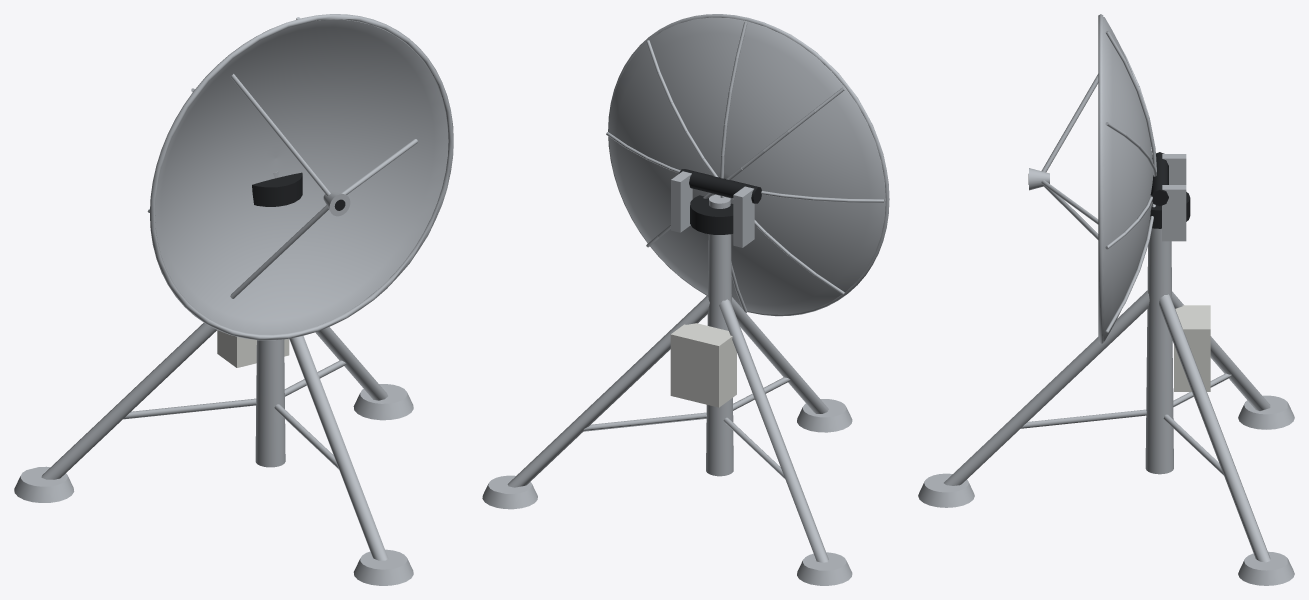
Rendered from antenna_dish.glb.
The picture shows the model from 3 angles, left to right: view 1: azimuth 30°, elevation 25°; view 2: azimuth 150°, elevation 25°; view 3: azimuth 270°, elevation 25°; orthographic projection. The views are drawn at different scales.
Parts seen in each view (by area): view 1: reflector_shell, tripod_leg (×3), dish_rim, tripod_foot (×3), mast, tripod_crossbrace (×2), feed_stay (×2), azimuth_bearing, radio_electronics; view 2: reflector_shell, tripod_leg (×3), radio_electronics, mast, tripod_foot (×3), dish_rim, mount_yoke (×2), azimuth_bearing, elevation_axle, tripod_crossbrace; view 3: reflector_shell, tripod_leg (×3), mast, tripod_foot (×3), radio_electronics, dish_rim, mount_yoke (×2), tripod_crossbrace (×2), elevation_axle, feed_stay.
Boxes of the visible parts, x1=… form: reflector_shell: x1=155, y1=19, x2=448, y2=334; tripod_leg (×3): x1=41, y1=323, x2=388, y2=560; dish_rim: x1=150, y1=14, x2=453, y2=340; tripod_foot (×3): x1=14, y1=384, x2=413, y2=585; mast: x1=255, y1=171, x2=285, y2=467; tripod_crossbrace (×2): x1=123, y1=398, x2=338, y2=469; feed_stay (×2): x1=230, y1=73, x2=330, y2=298; azimuth_bearing: x1=252, y1=172, x2=302, y2=206; radio_electronics: x1=217, y1=330, x2=289, y2=367; reflector_shell: x1=608, y1=17, x2=885, y2=314; tripod_leg (×3): x1=507, y1=295, x2=828, y2=562; radio_electronics: x1=670, y1=323, x2=736, y2=407; mast: x1=706, y1=194, x2=733, y2=476; tripod_foot (×3): x1=482, y1=399, x2=852, y2=585; dish_rim: x1=608, y1=14, x2=889, y2=316; mount_yoke (×2): x1=671, y1=171, x2=754, y2=247; azimuth_bearing: x1=690, y1=195, x2=733, y2=234; elevation_axle: x1=678, y1=169, x2=761, y2=203; tripod_crossbrace: x1=584, y1=412, x2=706, y2=431; reflector_shell: x1=1103, y1=17, x2=1152, y2=341; tripod_leg (×3): x1=944, y1=290, x2=1270, y2=562; mast: x1=1145, y1=228, x2=1173, y2=474; tripod_foot (×3): x1=918, y1=395, x2=1294, y2=585; radio_electronics: x1=1174, y1=305, x2=1210, y2=391; dish_rim: x1=1098, y1=14, x2=1103, y2=344; mount_yoke (×2): x1=1162, y1=154, x2=1186, y2=241; tripod_crossbrace (×2): x1=1020, y1=409, x2=1223, y2=475; elevation_axle: x1=1150, y1=152, x2=1168, y2=206; feed_stay: x1=1041, y1=74, x2=1098, y2=172.
Bounding box in the file's own units: 2.1 × 2.53 × 1.86.
3 materials, 3 textured.
